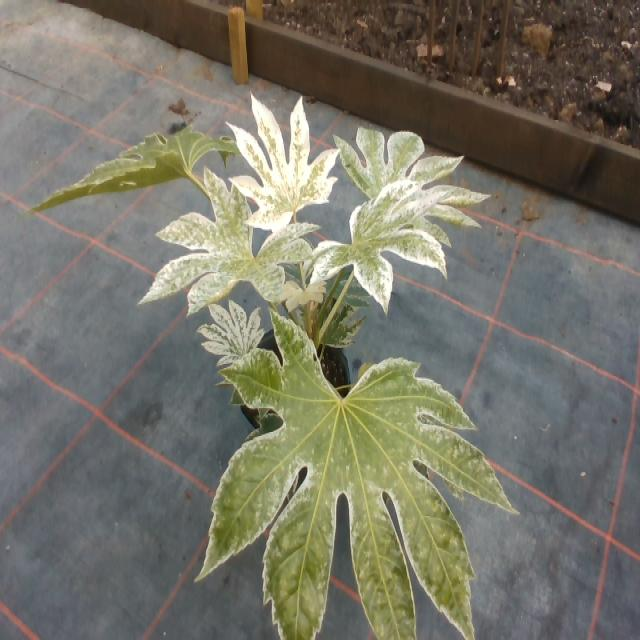Fatsia-japonica: (191, 294, 534, 640), (137, 164, 303, 310), (29, 108, 242, 212), (334, 112, 476, 244), (218, 82, 341, 231), (309, 183, 438, 310), (194, 292, 255, 362), (279, 266, 319, 311)
